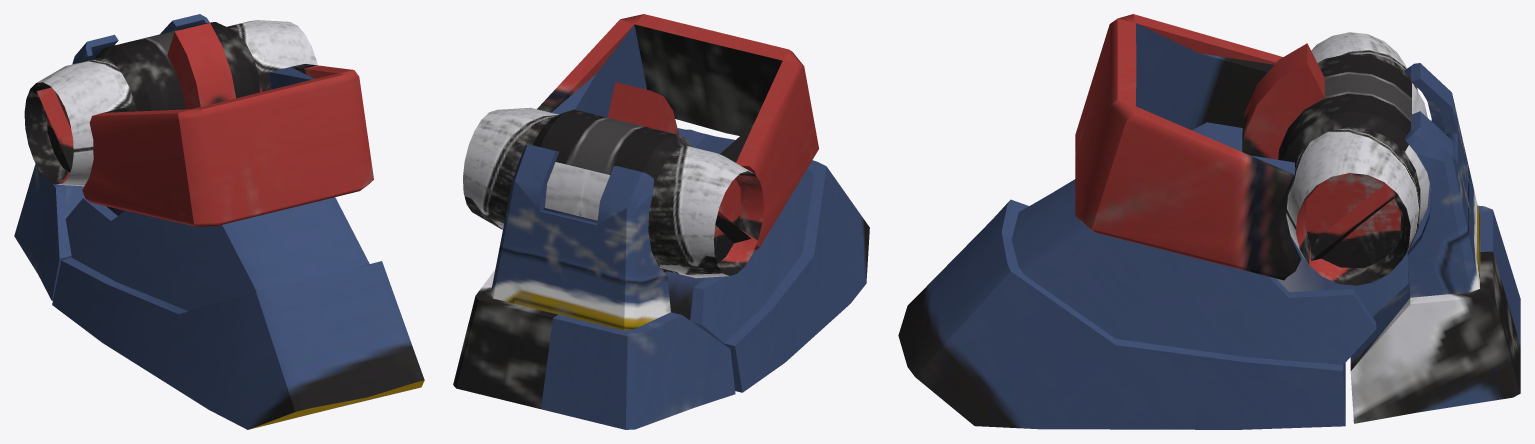
Rendered from foot1.obj.
3 renders of one model, left to right at view 1: azimuth 30°, elevation 25°; view 2: azimuth 150°, elevation 25°; view 3: azimuth 270°, elevation 25°, orthographic. The views are drawn at different scales.
Visible parts, largest first — view 1: polySurface787 group1 polySurface666, group1 polySurface666 polySurface785, group1 polySurface666 polySurface786, group1 polySurface666 polySurface788; view 2: group1 polySurface666 polySurface788, group1 polySurface666 polySurface786, group1 polySurface666 polySurface785, polySurface787 group1 polySurface666; view 3: polySurface787 group1 polySurface666, group1 polySurface666 polySurface785, group1 polySurface666 polySurface786, group1 polySurface666 polySurface788.
Boxes of the visible parts, x1,y1,x2,y2 form: polySurface787 group1 polySurface666: [52, 197, 424, 429]; group1 polySurface666 polySurface785: [82, 64, 373, 226]; group1 polySurface666 polySurface786: [24, 20, 317, 186]; group1 polySurface666 polySurface788: [14, 14, 209, 300]; group1 polySurface666 polySurface788: [453, 145, 735, 429]; group1 polySurface666 polySurface786: [463, 82, 763, 278]; group1 polySurface666 polySurface785: [537, 14, 818, 249]; polySurface787 group1 polySurface666: [664, 128, 869, 392]; polySurface787 group1 polySurface666: [898, 122, 1431, 429]; group1 polySurface666 polySurface785: [1075, 14, 1301, 280]; group1 polySurface666 polySurface786: [1242, 32, 1429, 285]; group1 polySurface666 polySurface788: [1350, 63, 1520, 423].
Bounding box in the file's own units: 3.29 × 3.52 × 6.13.
Materials: 1 (1 with a texture image).
